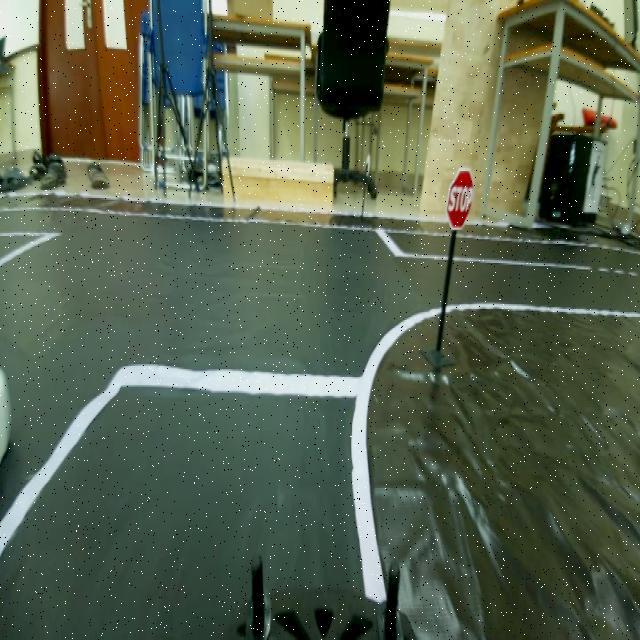stop: (446, 163, 480, 228)
